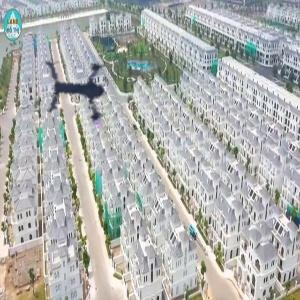drone: (40, 41, 138, 139)
